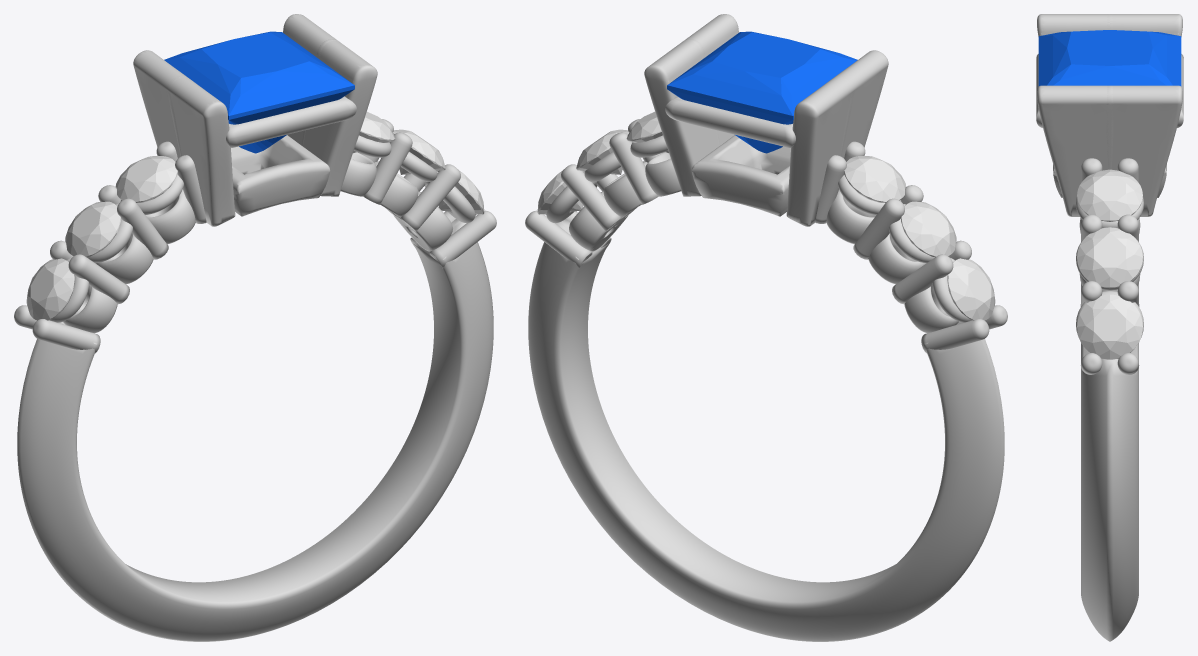
File: bluesapphire-princess-platinum-halfmoonbezel-knifeedge-7stone.glb
3 renders of one model, left to right at view 1: azimuth 30°, elevation 25°; view 2: azimuth 150°, elevation 25°; view 3: azimuth 270°, elevation 25°, orthographic.
Visible parts, largest first — view 1: metal, stone, side.001, side, side.002, side.004, side.003, side.005; view 2: metal, stone, side.001, side, side.002, side.004, side.003, side.005; view 3: metal, stone, side.005, side.004, side.003.
Part boxes in pixels (box(x1,y1,x2,y2)): metal: box(14, 14, 496, 641); stone: box(164, 31, 354, 153); side.001: box(65, 201, 120, 257); side: box(26, 258, 74, 320); side.002: box(115, 156, 177, 202); side.004: box(392, 129, 445, 174); side.003: box(353, 111, 395, 153); side.005: box(437, 170, 484, 214); metal: box(525, 14, 1007, 641); stone: box(667, 31, 857, 153); side.001: box(901, 201, 956, 257); side: box(947, 258, 995, 320); side.002: box(844, 156, 906, 202); side.004: box(576, 129, 629, 174); side.003: box(626, 111, 668, 153); side.005: box(537, 170, 584, 214); metal: box(1036, 14, 1183, 641); stone: box(1038, 30, 1181, 86); side.005: box(1077, 294, 1142, 359); side.004: box(1077, 227, 1142, 288); side.003: box(1077, 169, 1142, 221).
Bounding box in the file's own units: 20.5 × 23.85 × 5.6.
